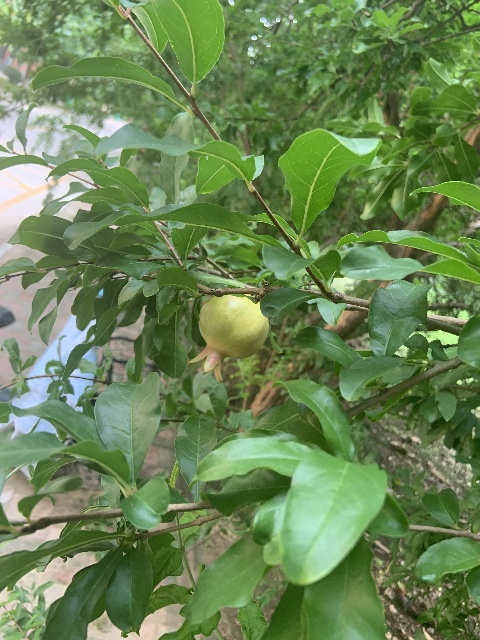mid-growth: (187, 294, 269, 383)
